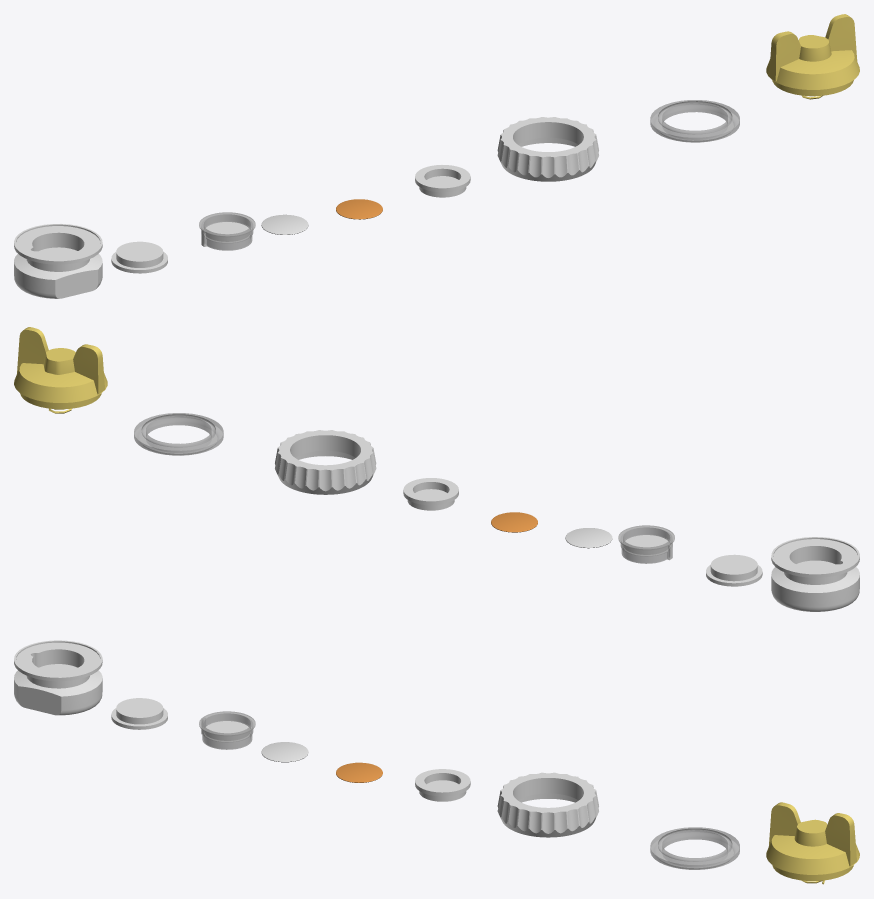
File: pat_cell.fbx
The picture shows the model from 3 angles, top to bottom: view 1: azimuth 30°, elevation 25°; view 2: azimuth 150°, elevation 25°; view 3: azimuth 330°, elevation 25°; orthographic projection.
Parts seen in each view (by area): view 1: base, brass_top, gear, washer, sleeve, upper_plunger, lower_plunger, negative_upper_cathode, positive_lower_cathode; view 2: base, brass_top, gear, washer, sleeve, upper_plunger, lower_plunger, negative_upper_cathode, positive_lower_cathode; view 3: base, brass_top, gear, washer, sleeve, upper_plunger, lower_plunger, positive_lower_cathode, negative_upper_cathode.
Boxes of the visible parts, x1,y1,x2,y2 form: base: (14,224,102,298); brass_top: (766,14,859,99); gear: (497,117,598,181); washer: (650,100,739,142); sleeve: (199,212,255,250); upper_plunger: (415,165,470,197); lower_plunger: (111,241,167,273); negative_upper_cathode: (336,199,382,219); positive_lower_cathode: (261,214,308,234); base: (771,537,859,611); brass_top: (14,327,107,413); gear: (275,430,376,494); washer: (134,413,223,455); sleeve: (618,525,674,563); upper_plunger: (403,478,458,510); lower_plunger: (706,554,762,586); negative_upper_cathode: (491,512,537,532); positive_lower_cathode: (565,528,612,548); base: (14,640,102,715); brass_top: (766,802,859,884); gear: (497,772,598,837); washer: (650,827,739,869); sleeve: (199,711,255,749); upper_plunger: (415,769,470,801); lower_plunger: (111,698,167,729); positive_lower_cathode: (261,742,308,762); negative_upper_cathode: (336,762,382,782).
Size of the model in its own units: 420 by 36.42 by 44.31.
